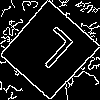L: (24, 25, 76, 78)
